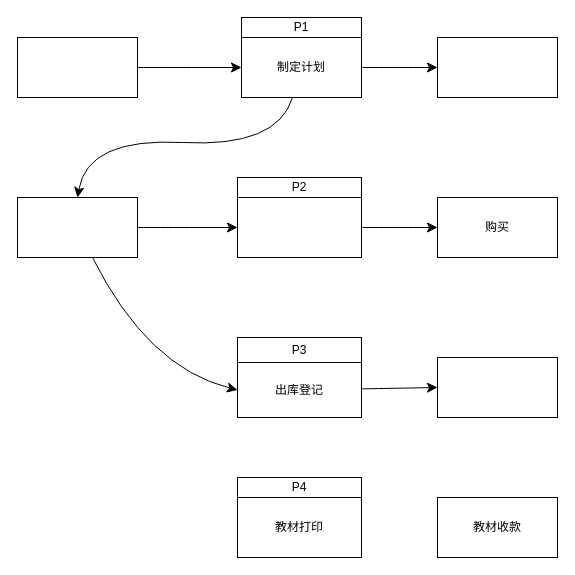
The diagram is 575 pixels wide and 575 high, and some of its shapes have lost their labels. Here are the shapes that lost their labels. From the top down, the centre of each, then its label:
At pixel 77 67: "各专业".
At pixel 497 67: "教材表".
At pixel 77 227: "管理员".
At pixel 299 227: "入库登记".
At pixel 497 387: "出库".
